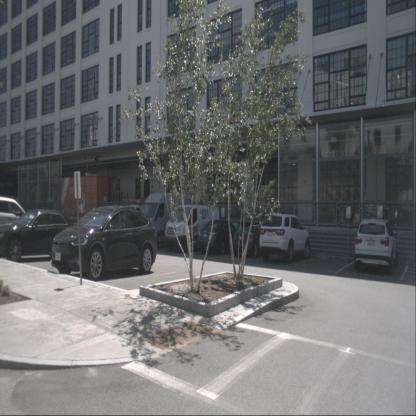human-pedestrian-adult: (103, 193, 107, 215)
vehicle-car: (51, 205, 157, 281), (0, 209, 84, 262), (136, 192, 191, 252), (165, 205, 220, 254), (259, 213, 310, 264), (354, 218, 398, 275), (0, 196, 38, 247), (232, 220, 279, 259), (198, 220, 246, 256)
vehicle-truck: (48, 173, 121, 235)
